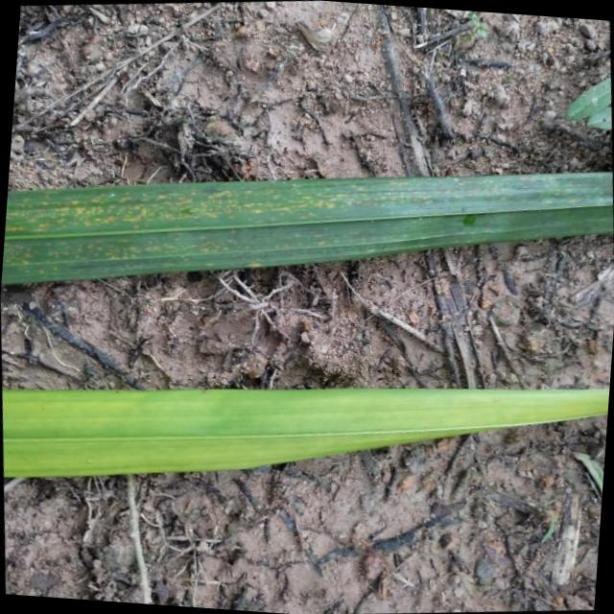nitrogen: (0, 169, 614, 288), (0, 380, 614, 475)
